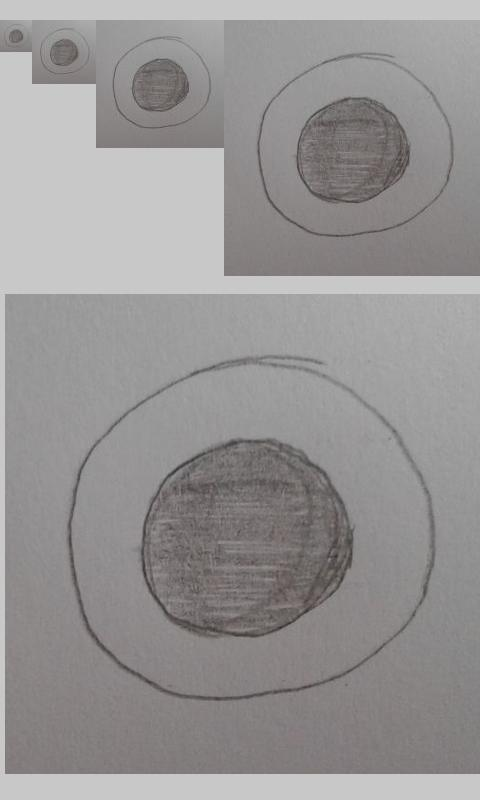radio_button: (62, 352, 441, 706), (254, 48, 457, 241), (111, 34, 212, 130), (39, 27, 91, 75), (3, 23, 30, 49)
